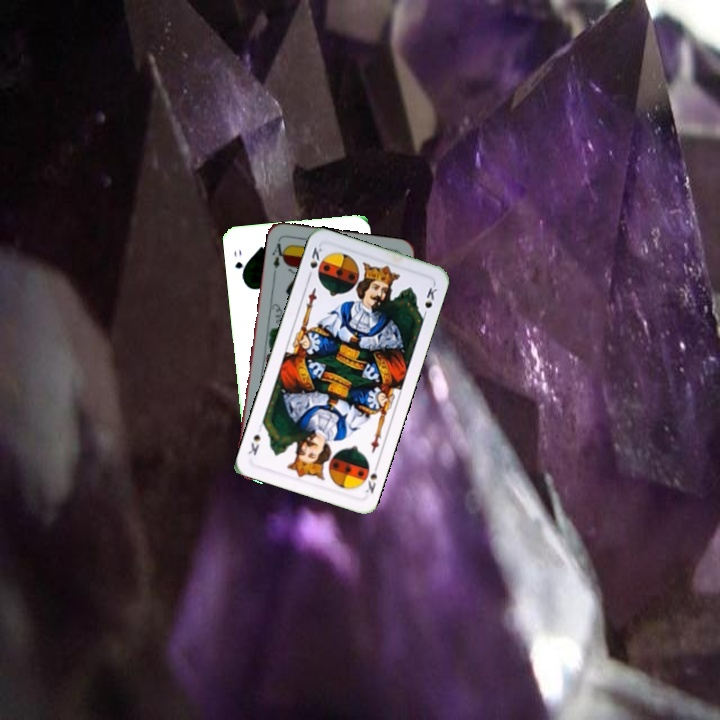EA: (268, 236, 289, 271)
GO: (230, 245, 248, 281)
SK: (304, 243, 325, 282), (361, 459, 381, 496)
